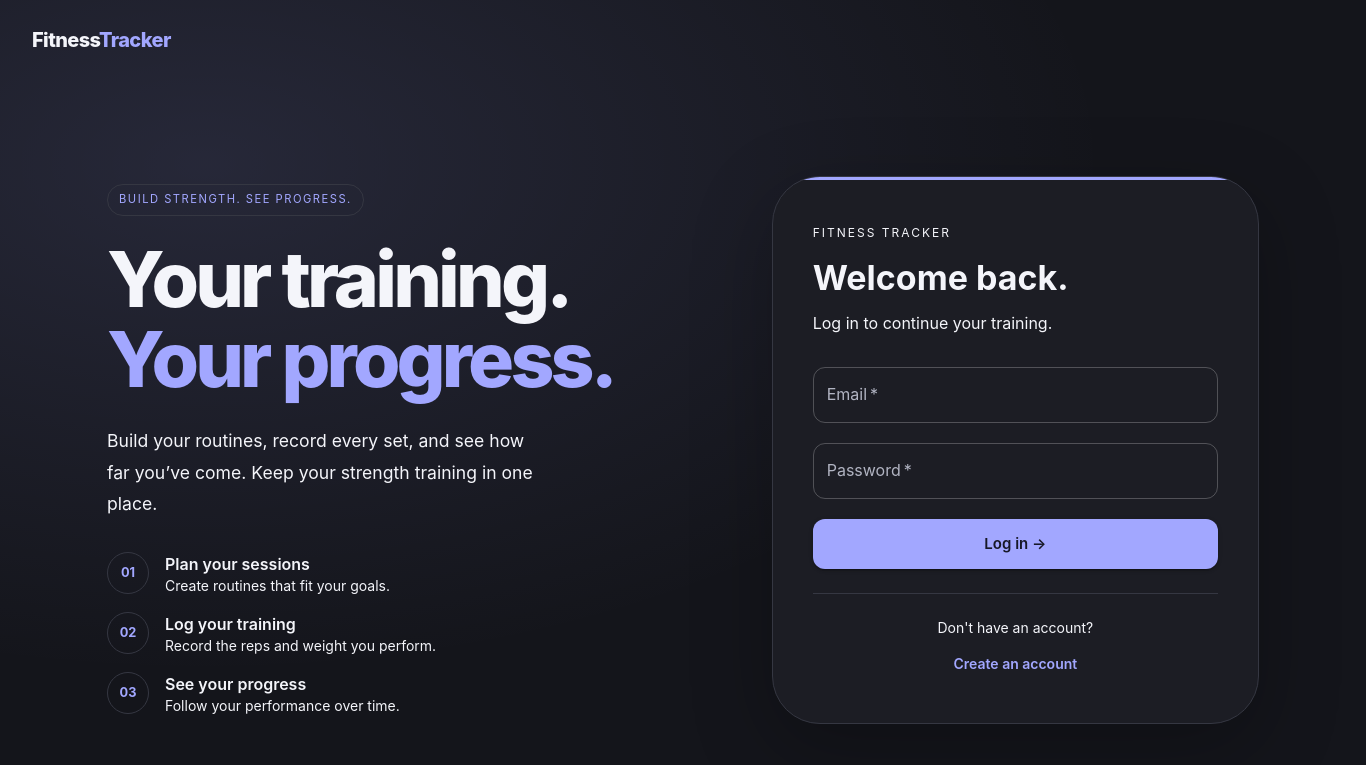
Test: Authentication › rejects mismatched passwords without registering
Click the button "Create an account" at (1016, 665), box [813,646,1218,683]
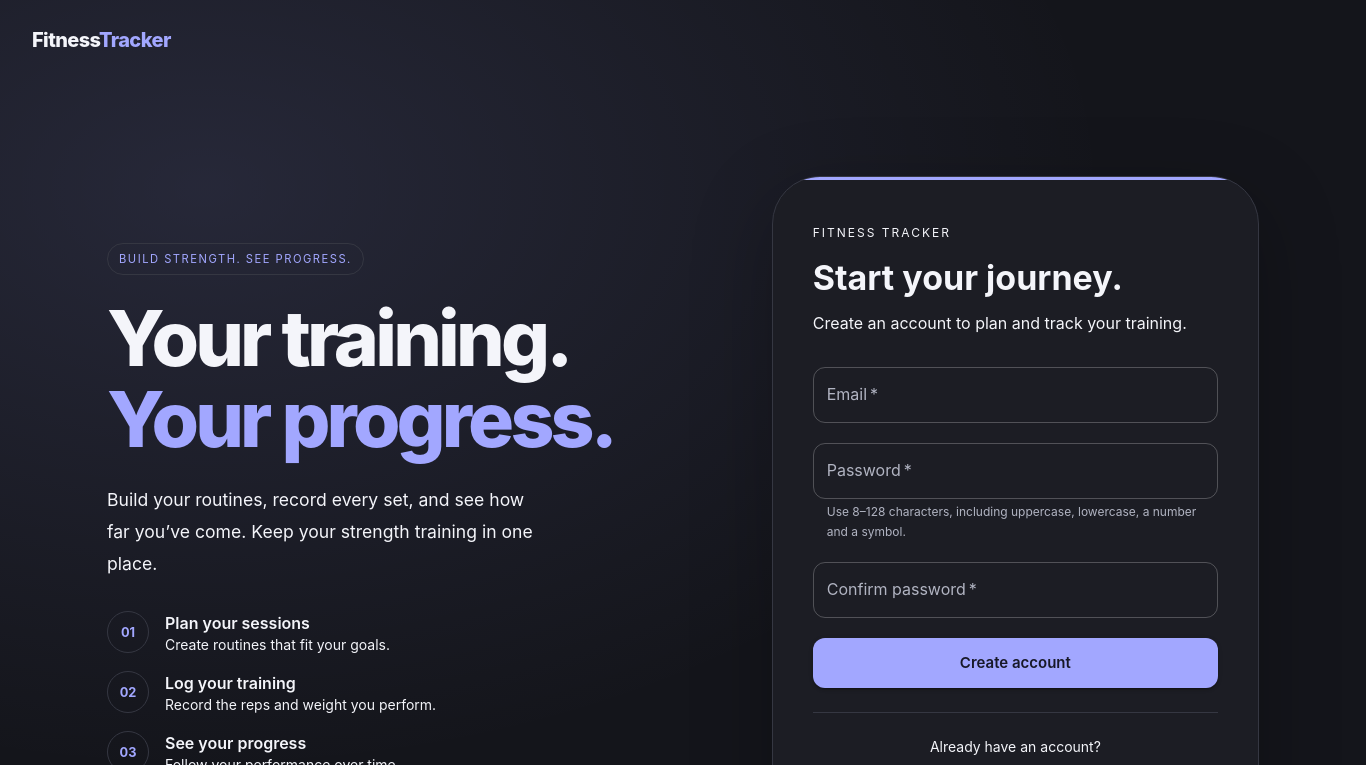
Type "new@example.com" into the field labelled "Email *" at (1016, 395), box [813,367,1218,423]
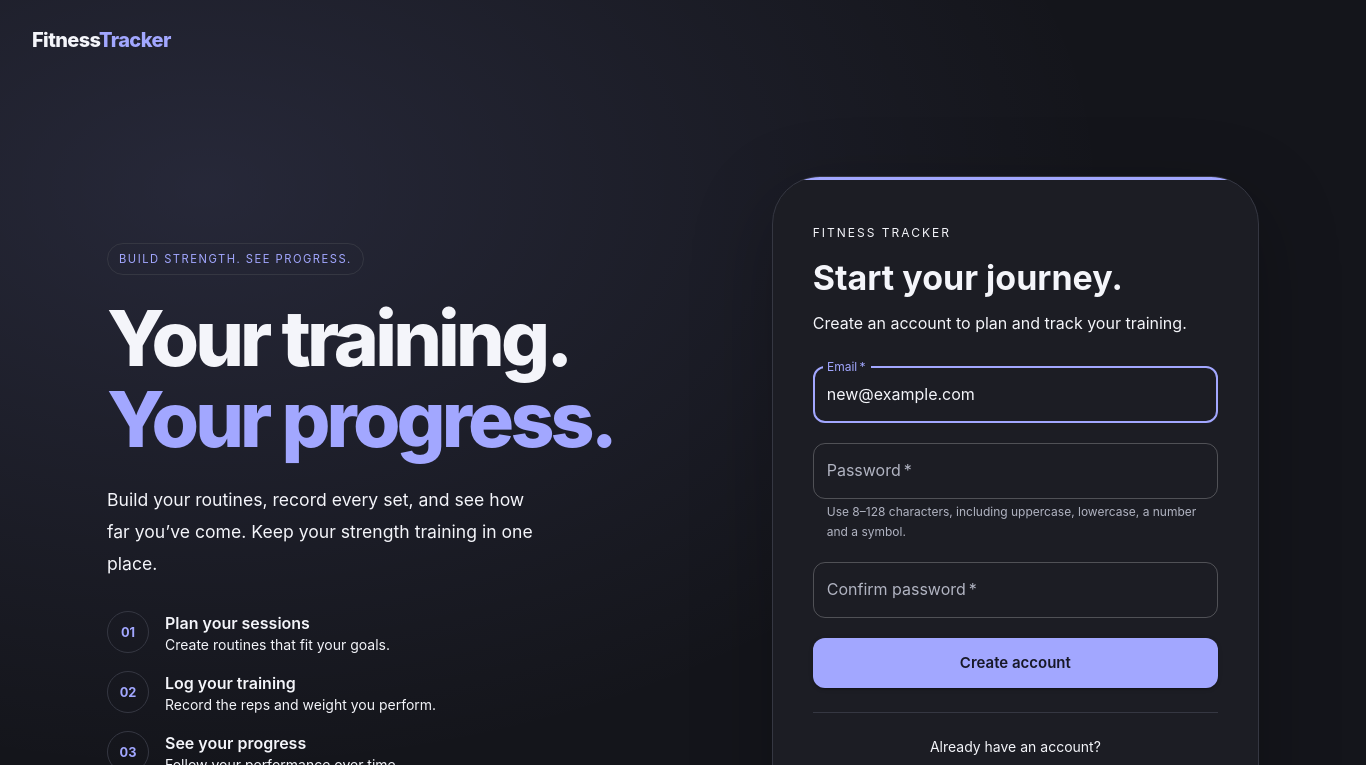
Type "TestAccount123!" into the password field labelled "Password *" at (1016, 471), box [813,443,1218,499]
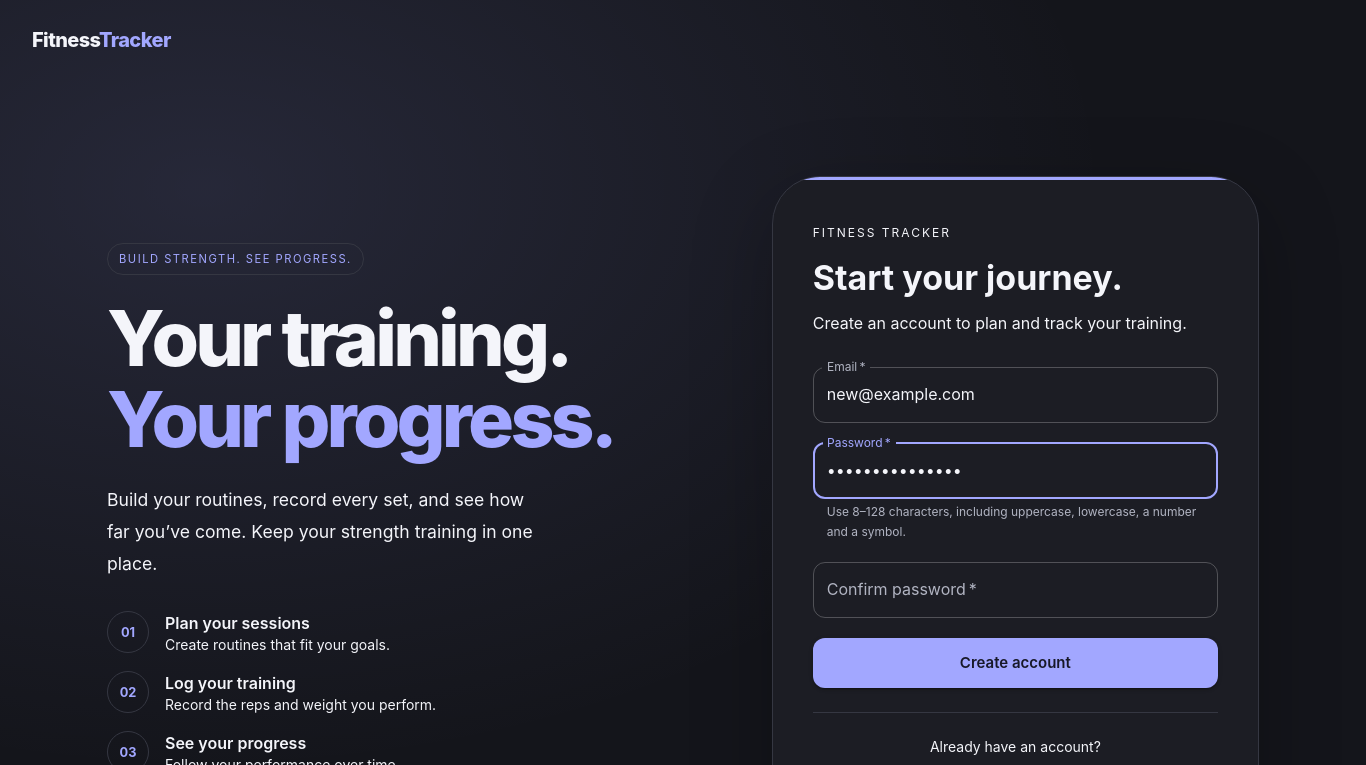
Type "DifferentPassword123!" into the password field labelled "Confirm password *" at (1016, 590), box [813,562,1218,618]
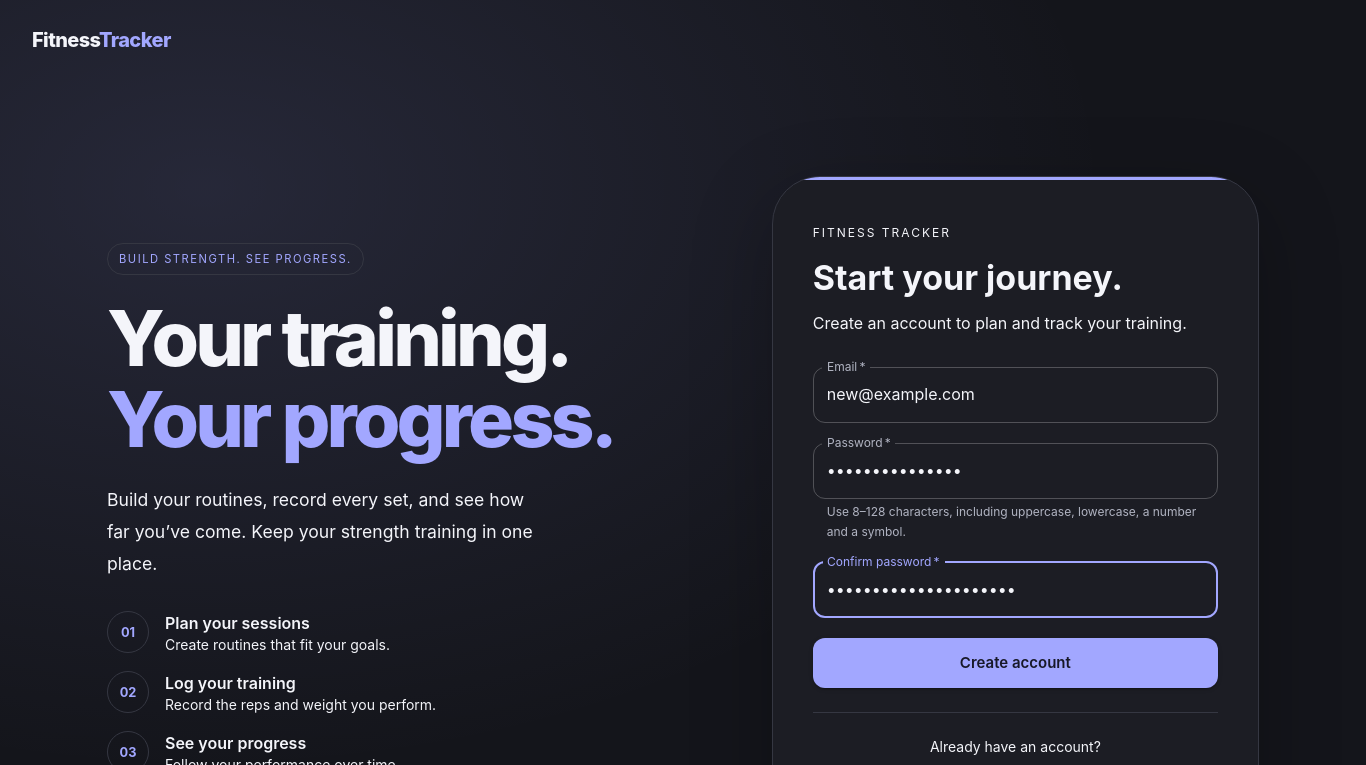
Click the button "Create account" at (1016, 663), box [813,638,1218,688]
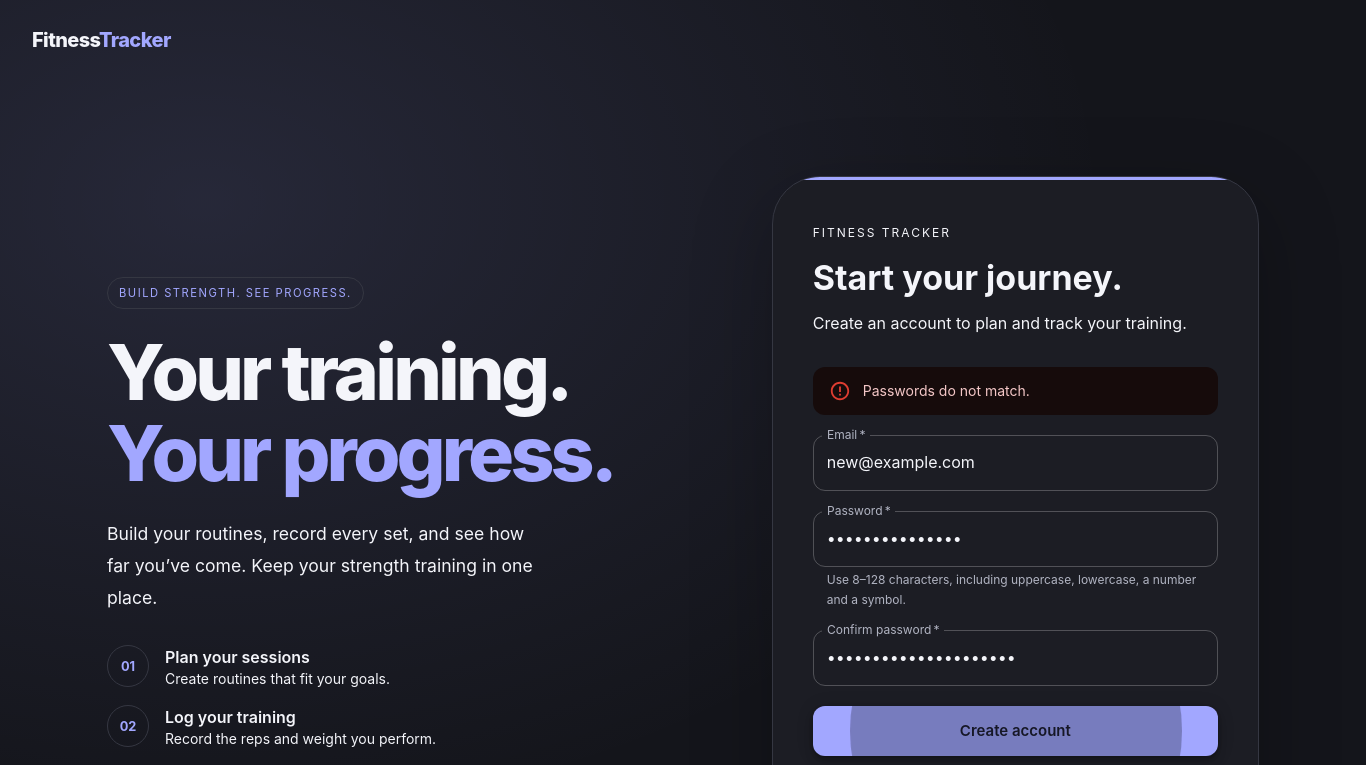
Expected: the text "Passwords do not match." is shown, [813,367,1218,415]
